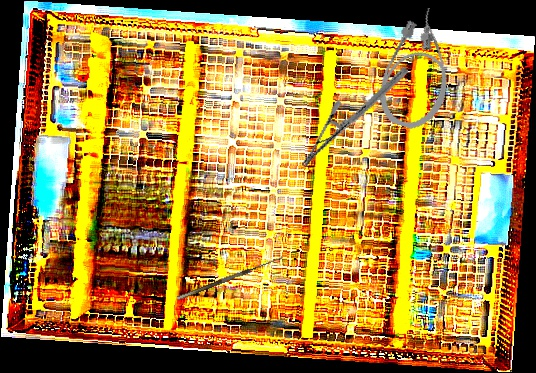Cannula: (370, 1, 470, 136)
Hook Surgical: (174, 250, 284, 301)
Needle Holder: (300, 45, 409, 190)
